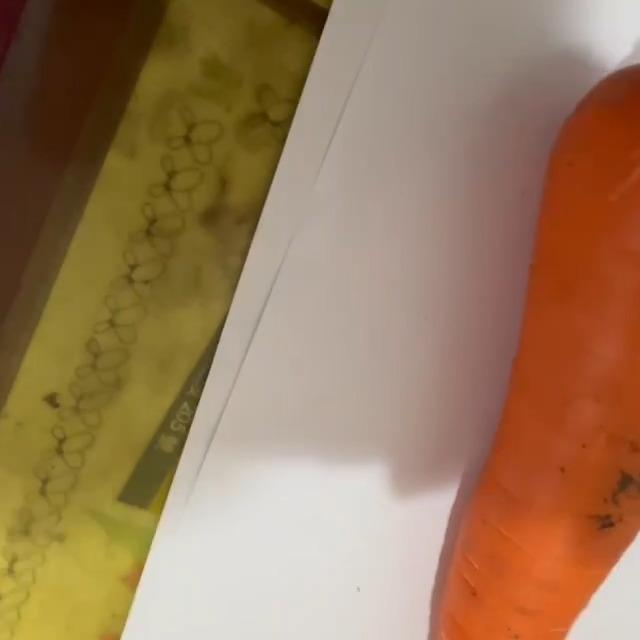carrot: (437, 1, 640, 640)
